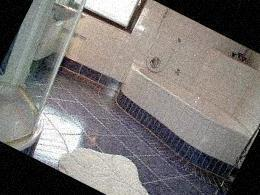Ducha: (0, 0, 110, 152)
